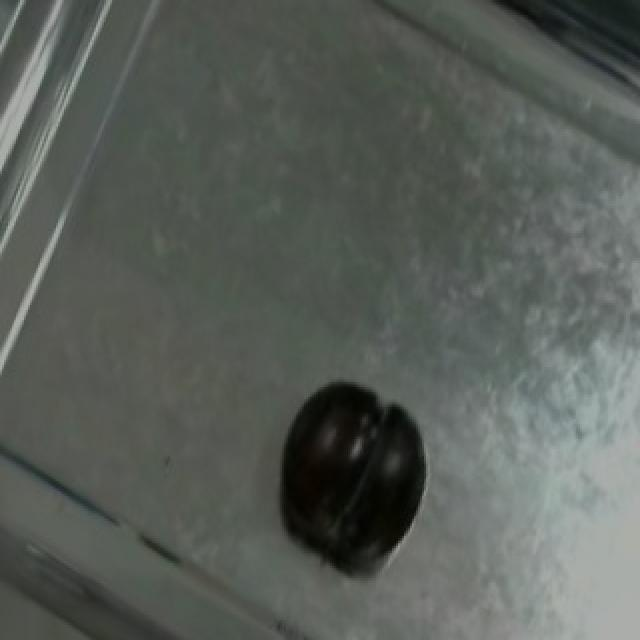Fruit: (266, 364, 398, 560)
